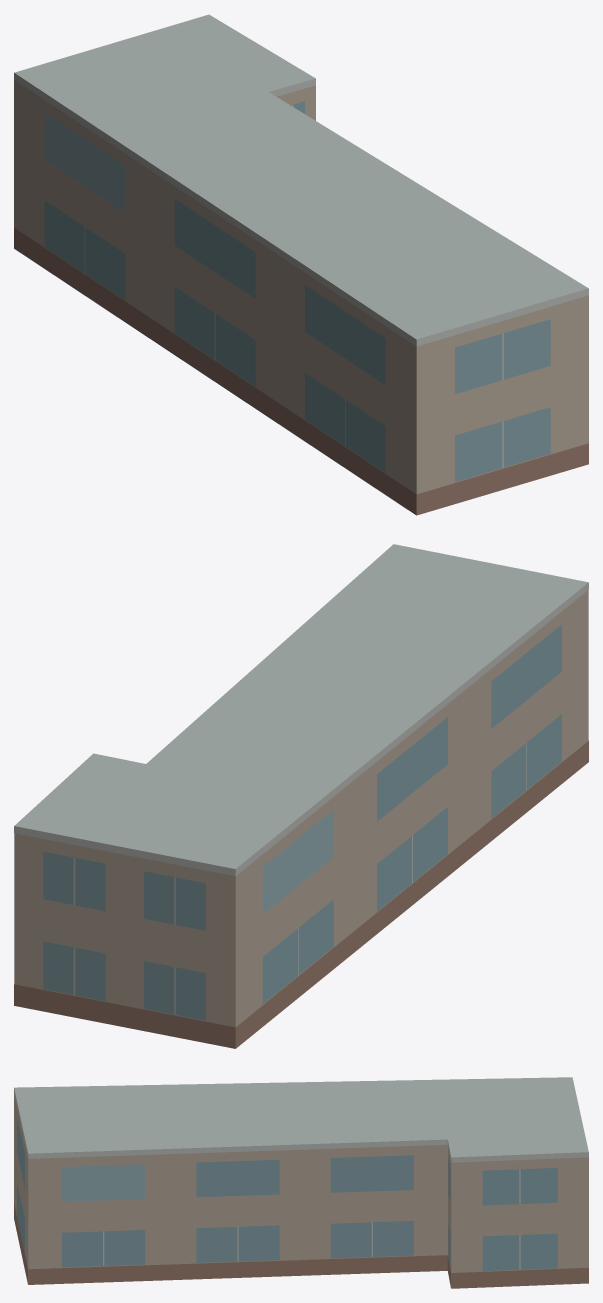
Rendered from survey-upis-32989442.glb.
3 renders of one model, top to bottom at view 1: azimuth 30°, elevation 25°; view 2: azimuth 150°, elevation 25°; view 3: azimuth 270°, elevation 25°, orthographic. The views are drawn at different scales.
Parts seen in each view (by area): view 1: survey-upis-32989442.tmp; view 2: survey-upis-32989442.tmp; view 3: survey-upis-32989442.tmp.
Part boxes in pixels (x1,y1,x2,y2): survey-upis-32989442.tmp: [14, 14, 588, 515]; survey-upis-32989442.tmp: [14, 544, 588, 1048]; survey-upis-32989442.tmp: [14, 1077, 588, 1288].
Size of the model in its own units: 8.01 by 6.1 by 24.21.
